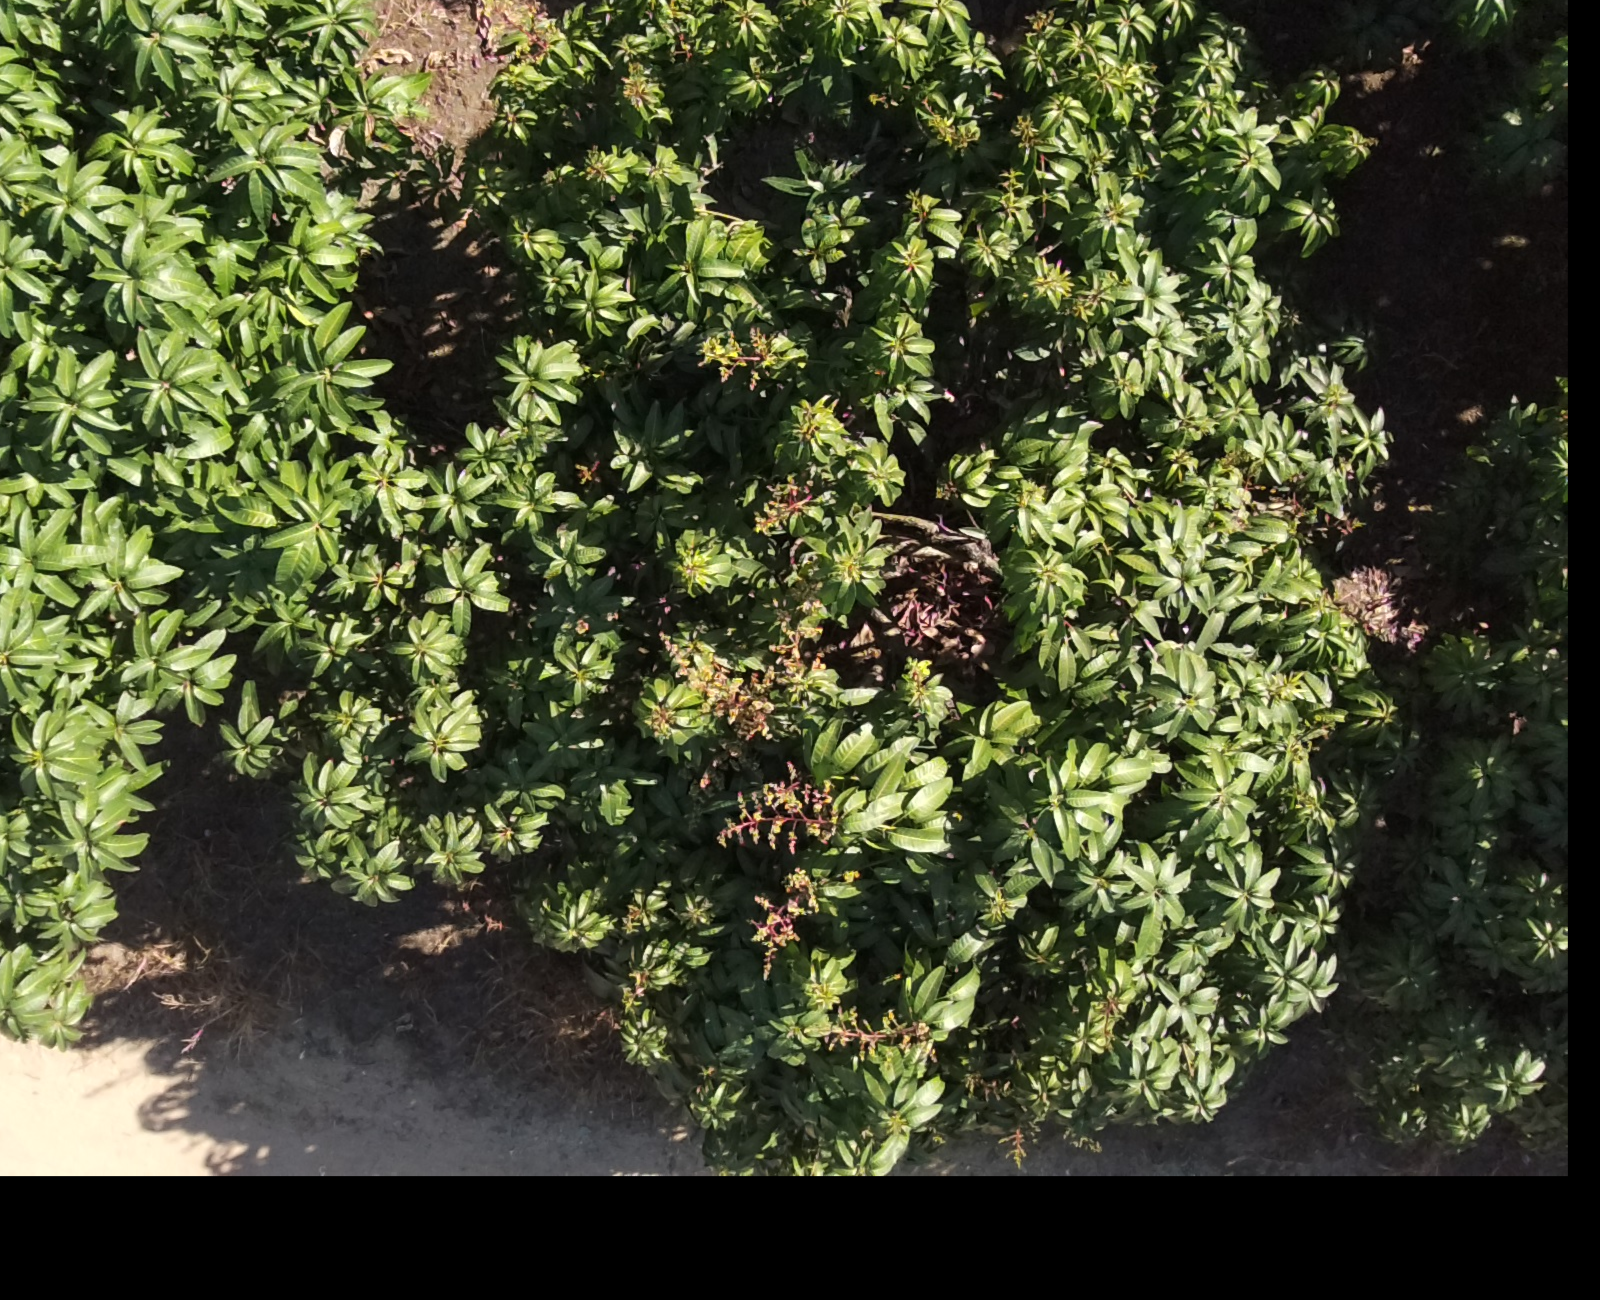flowers: (663, 639, 775, 739), (716, 764, 837, 856), (754, 869, 815, 978), (754, 478, 812, 535)
